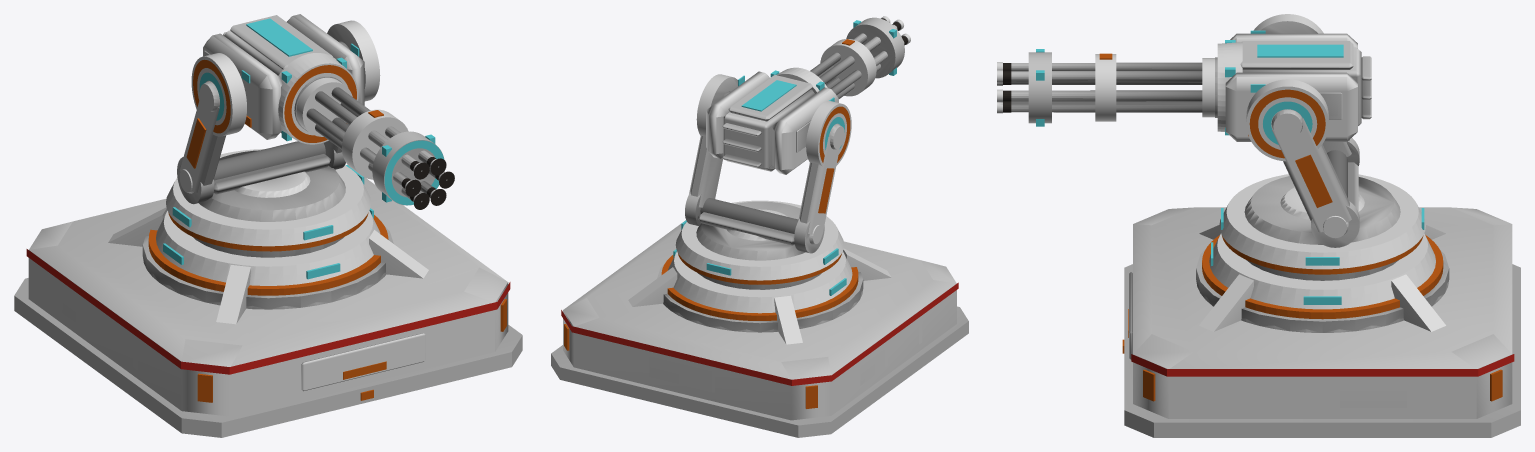
Rendered from gatling_0.glb.
The picture shows the model from 3 angles, left to right: view 1: azimuth 30°, elevation 25°; view 2: azimuth 150°, elevation 25°; view 3: azimuth 270°, elevation 25°; orthographic projection. The views are drawn at different scales.
Visible parts, largest first — view 1: Rumpf, Drehring, Waffe, Buendel, Arm; view 2: Rumpf, Drehring, Waffe, Arm, Buendel; view 3: Rumpf, Drehring, Waffe, Buendel, Arm.
Boxes of the visible parts, bbox=[...] form: Rumpf: bbox=[14, 177, 522, 437]; Drehring: bbox=[166, 141, 370, 251]; Waffe: bbox=[203, 14, 364, 144]; Buendel: bbox=[294, 76, 454, 209]; Arm: bbox=[177, 20, 380, 204]; Rumpf: bbox=[551, 220, 968, 437]; Drehring: bbox=[675, 198, 844, 284]; Waffe: bbox=[706, 67, 838, 174]; Arm: bbox=[685, 74, 851, 253]; Buendel: bbox=[810, 16, 910, 98]; Rumpf: bbox=[1122, 207, 1520, 437]; Drehring: bbox=[1219, 150, 1425, 274]; Waffe: bbox=[1217, 30, 1371, 141]; Buendel: bbox=[997, 49, 1217, 126]; Arm: bbox=[1246, 14, 1359, 247].
Bounding box in the file's own units: 0.94 × 0.8053 × 1.24.
